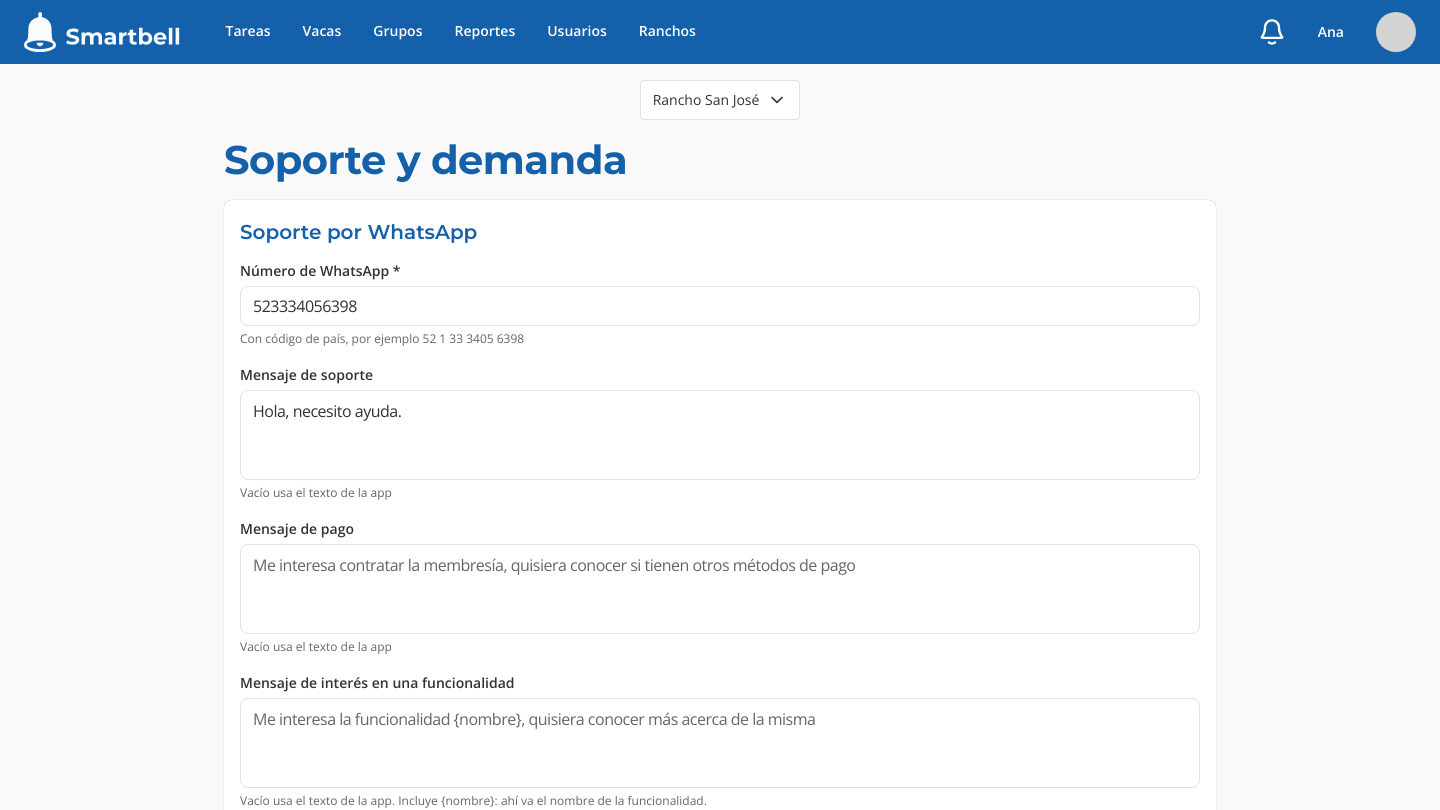
Test: Soporte form › refuses a bad number, link or feature message on the field, without saving
Replace the text in the field labelled "Número de WhatsApp *" with "12345" at (720, 306), box [253,287,1187,325]
(page scrolled)
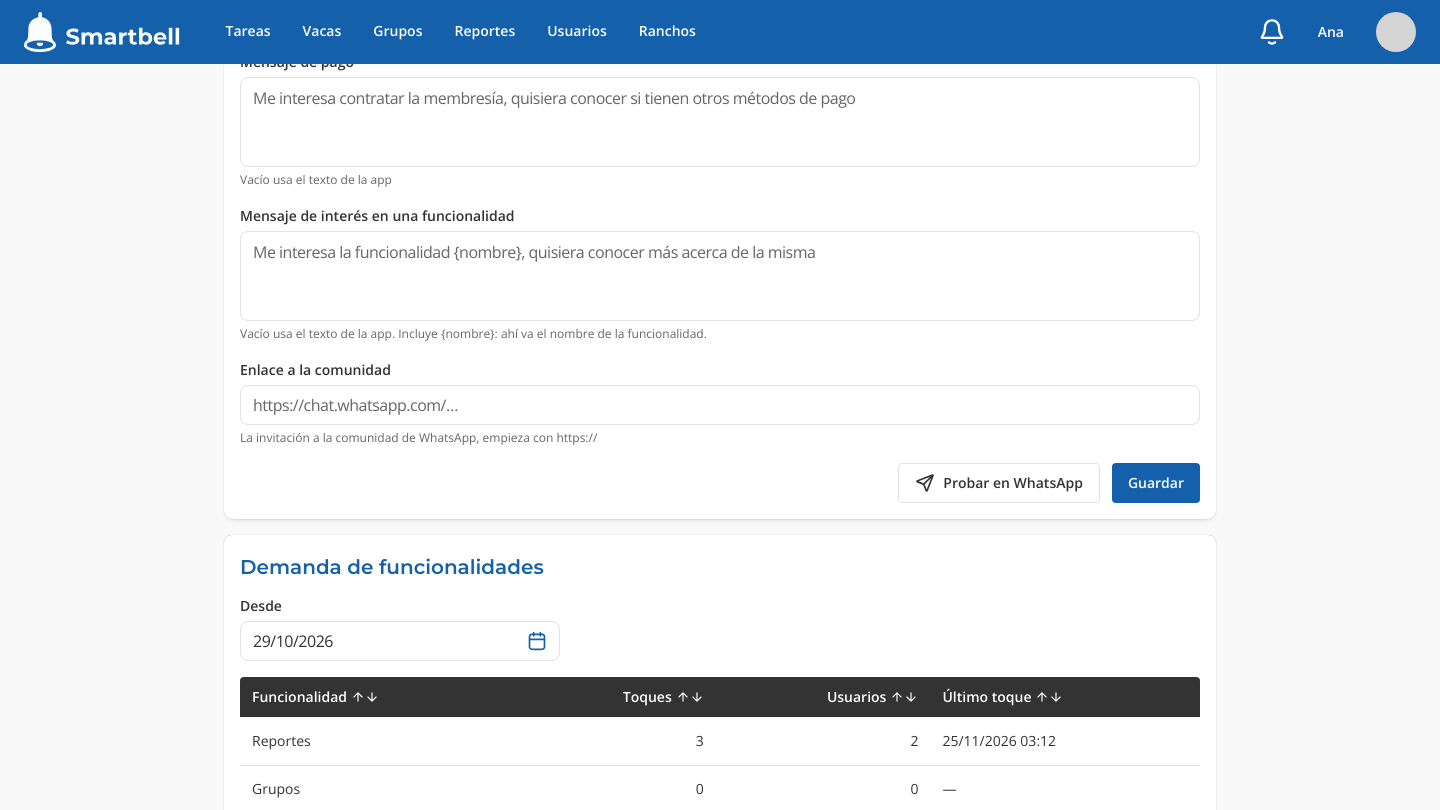
Type "http://chat.whatsapp.com/AbC123" into the field labelled "Enlace a la comunidad".
click(720, 405); type("http://chat.whatsapp.com/AbC123")  # box [253,386,1187,424]
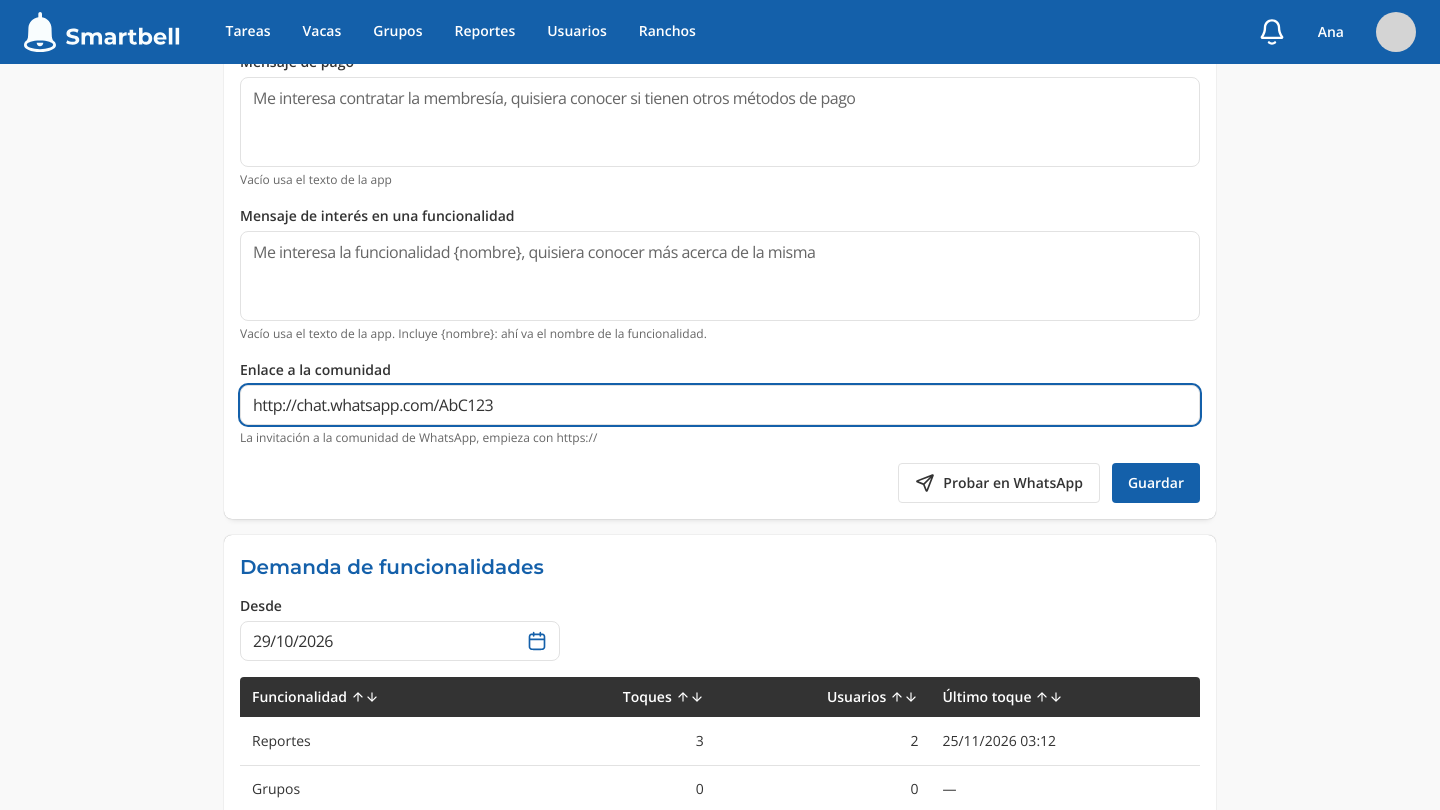
Replace the text in the text box labelled "Mensaje de interés en una funcionalidad" with "Me interesa esa funcionalidad." at (720, 276), box [253,240,1187,312]
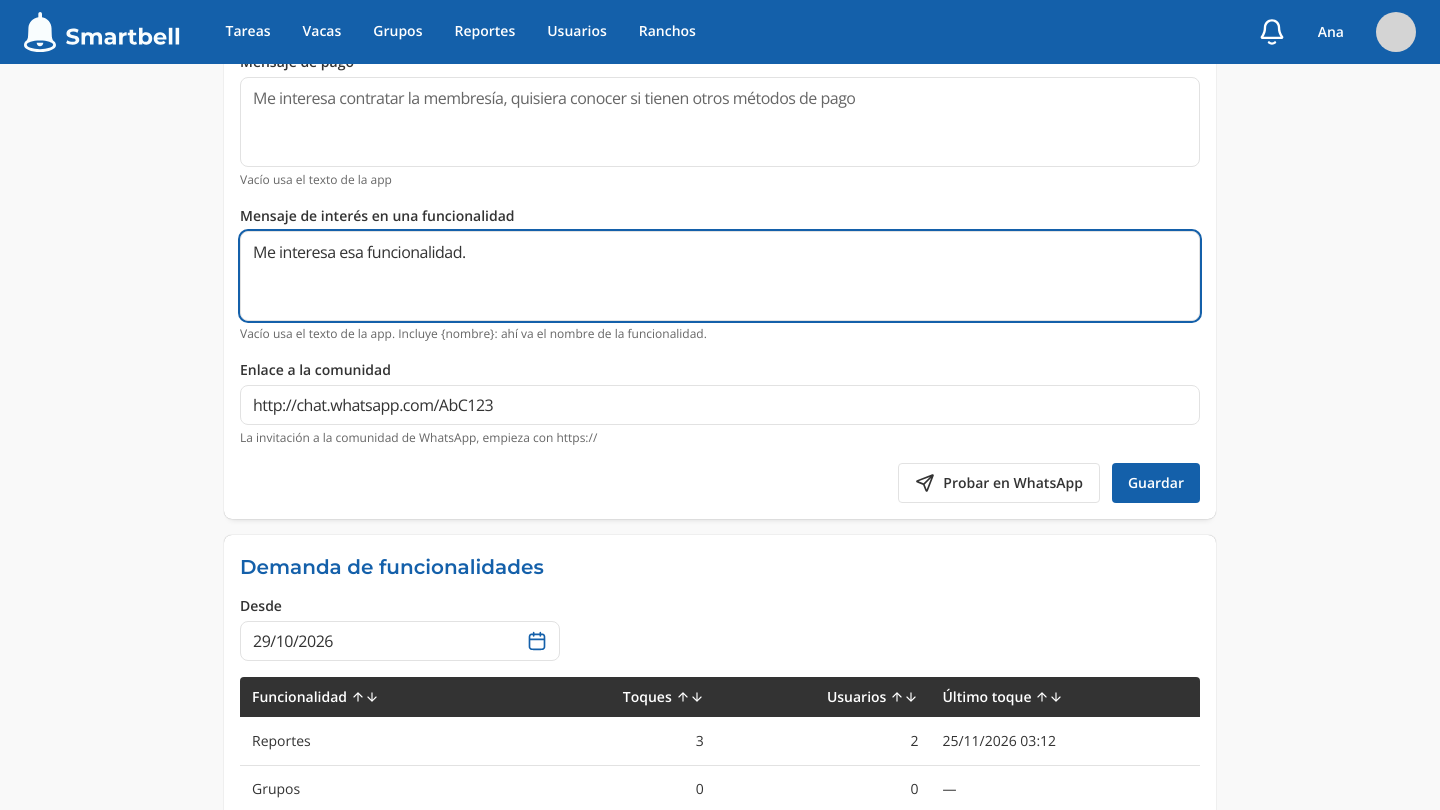
Click the button "Guardar".
click(1156, 483)  # box [1112,463,1200,503]
(page scrolled)
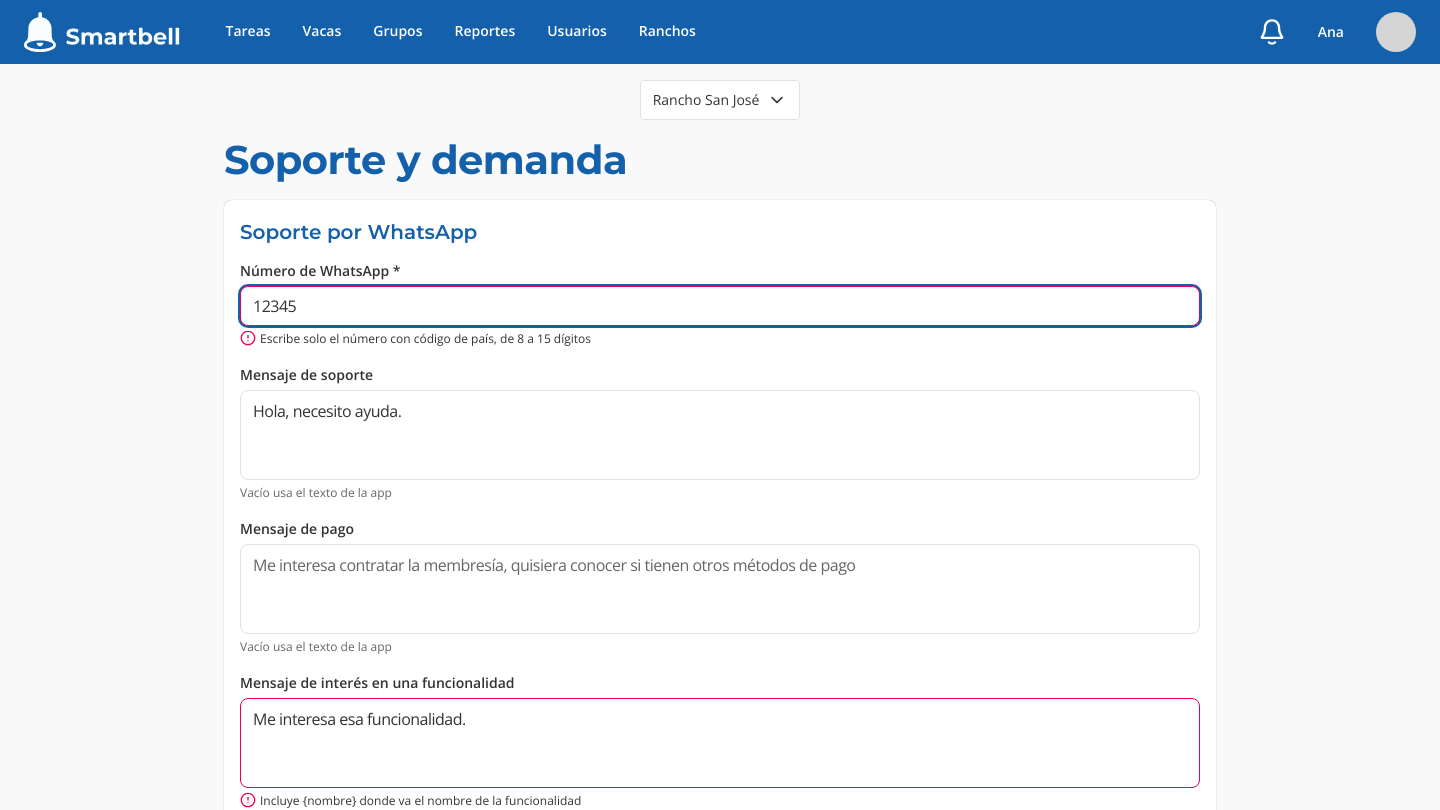
Check: the text "Escribe solo el número con código de país, de 8 a 15 dígitos" is shown, box [240,330,591,347]
Check: the text "Incluye {nombre} donde va el nombre de la funcionalidad" is shown, box [240,792,581,809]
